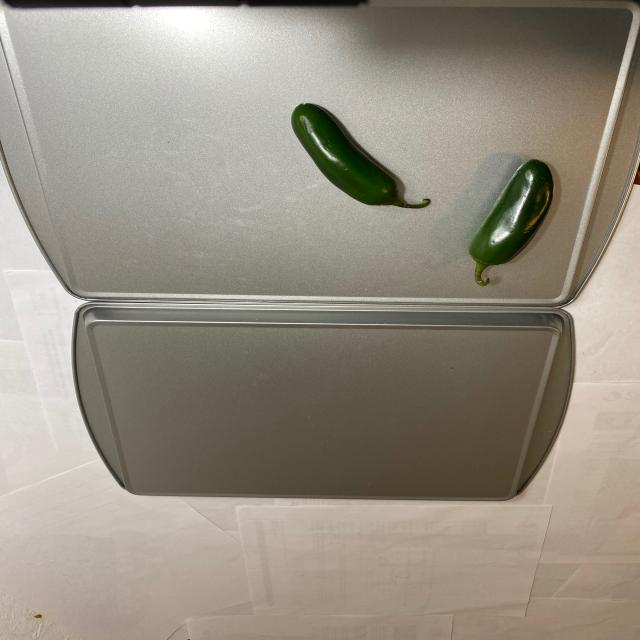chilli: (282, 93, 566, 293)
